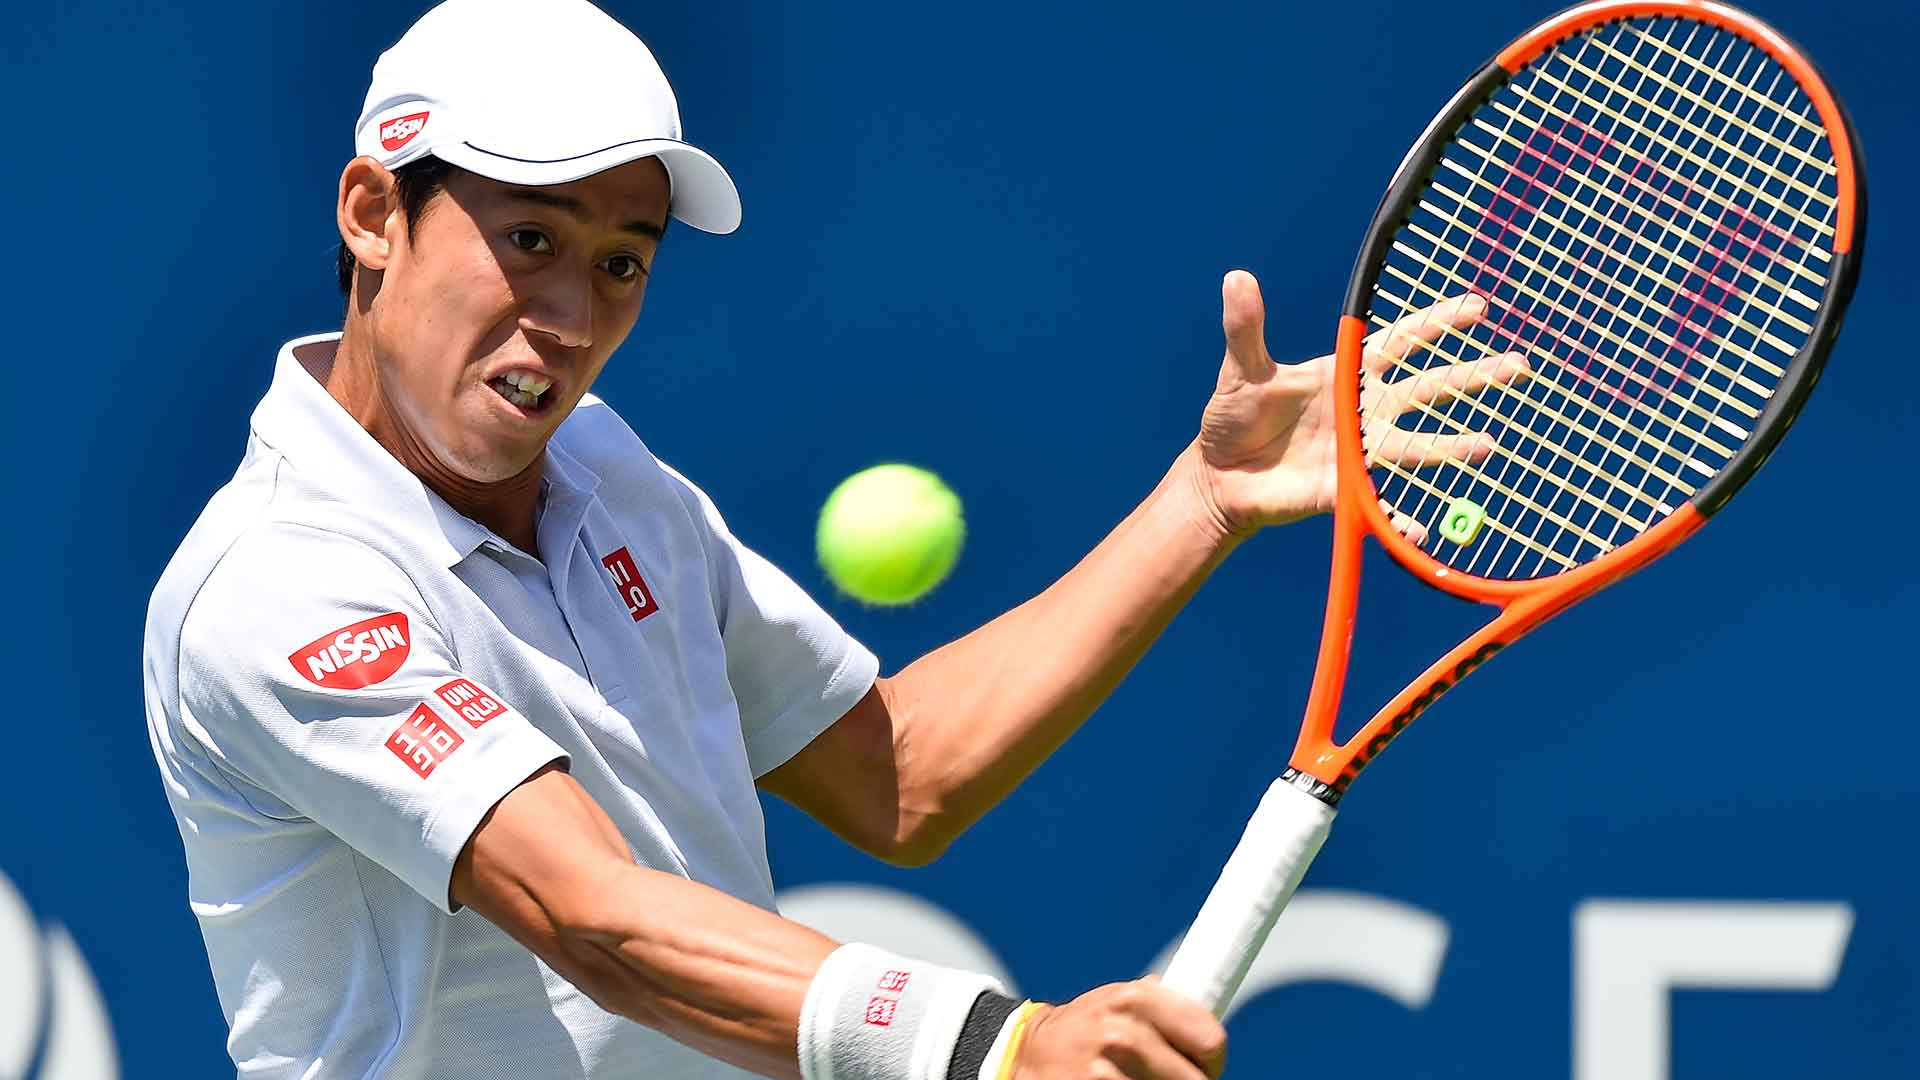tennis ball: (809, 461, 975, 606)
tennis player: (105, 1, 1278, 1080)
